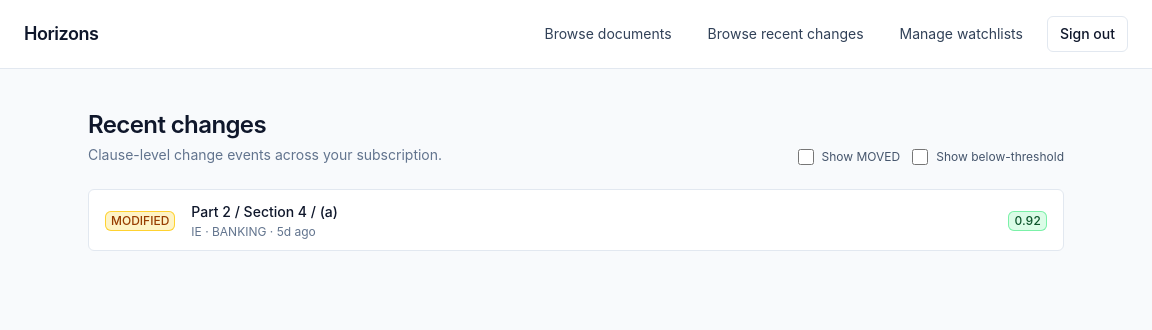
ChangesView › hides below-threshold confidences by default and shows them when toggled
This screenshot has width=1152, height=330.
Expected: the number of list items with test id "change-row" is 1, 105,203 -> 1047,239
Click the checkbox with test id "toggle-below-threshold" at (920, 157), box 912,149 -> 928,165
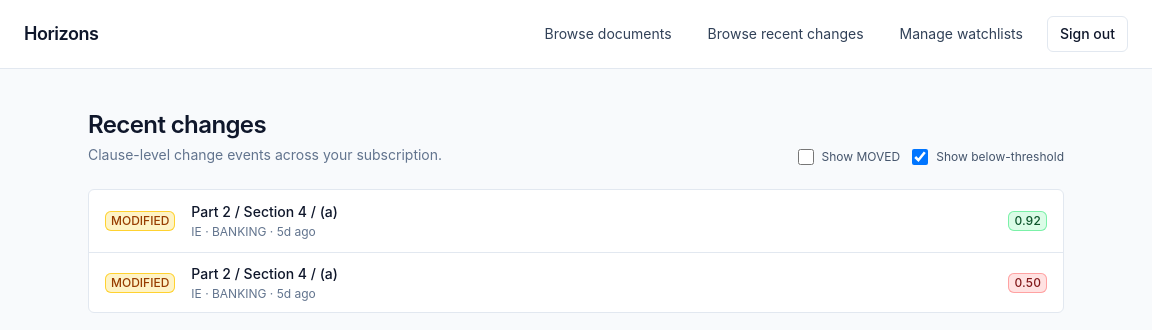
Expected: the number of list items with test id "change-row" is 2, 89,190 -> 1063,253; 105,265 -> 1047,301
